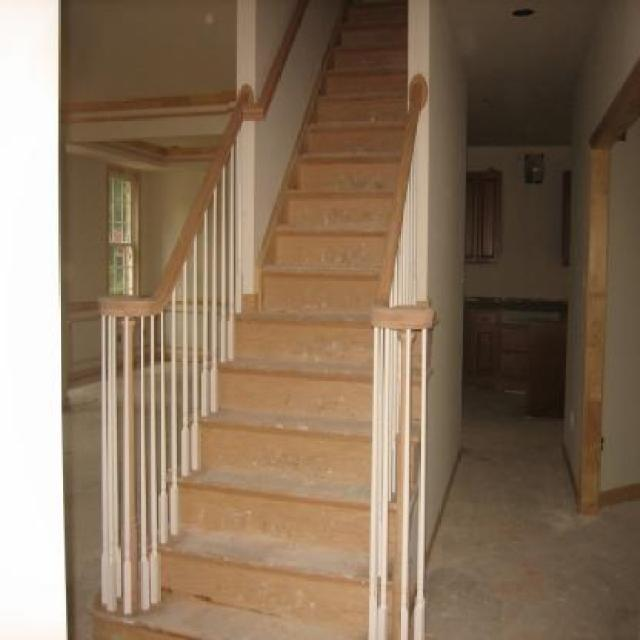stair: (86, 0, 440, 640)
